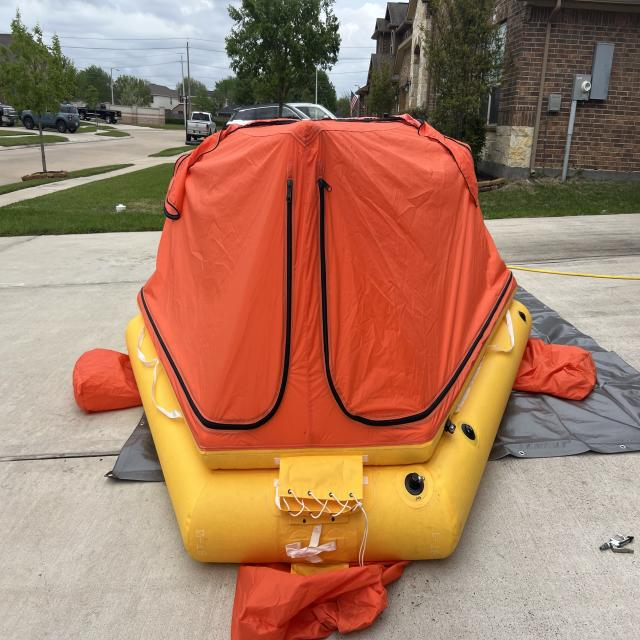Multi-person_life_raft: (72, 113, 597, 639)
